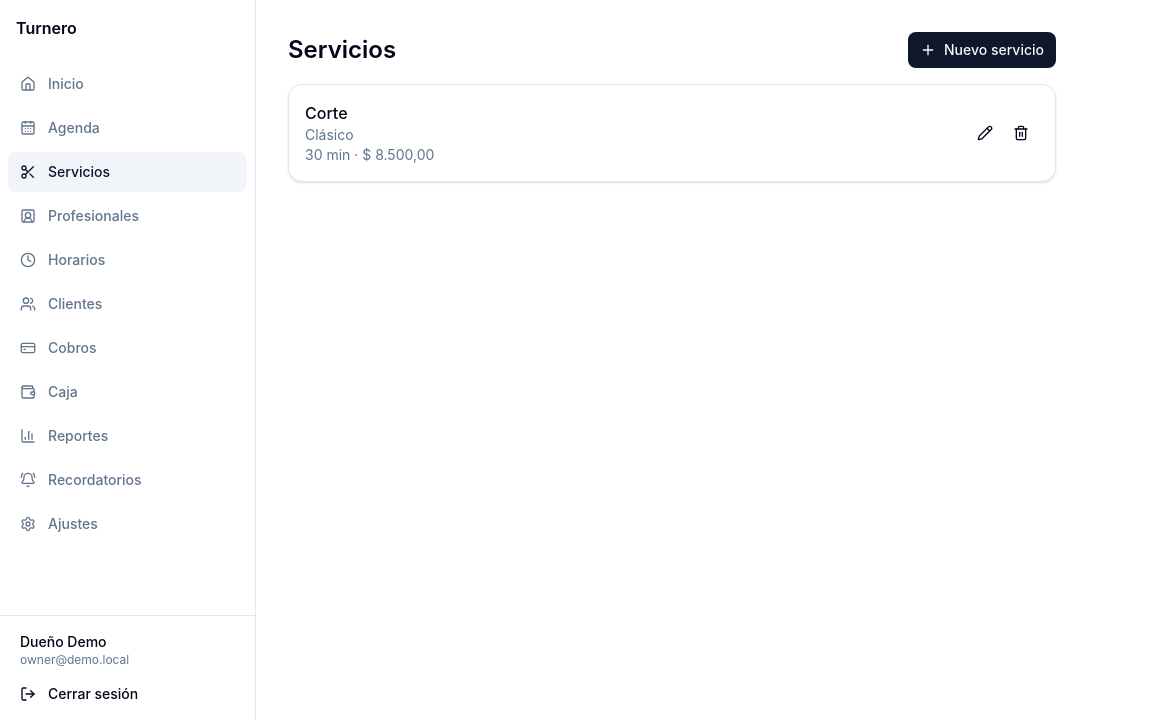
Test: services page › does not delete when the confirmation is cancelled
Click the button named "Eliminar Corte": (1021, 133) [1003,115,1039,151]
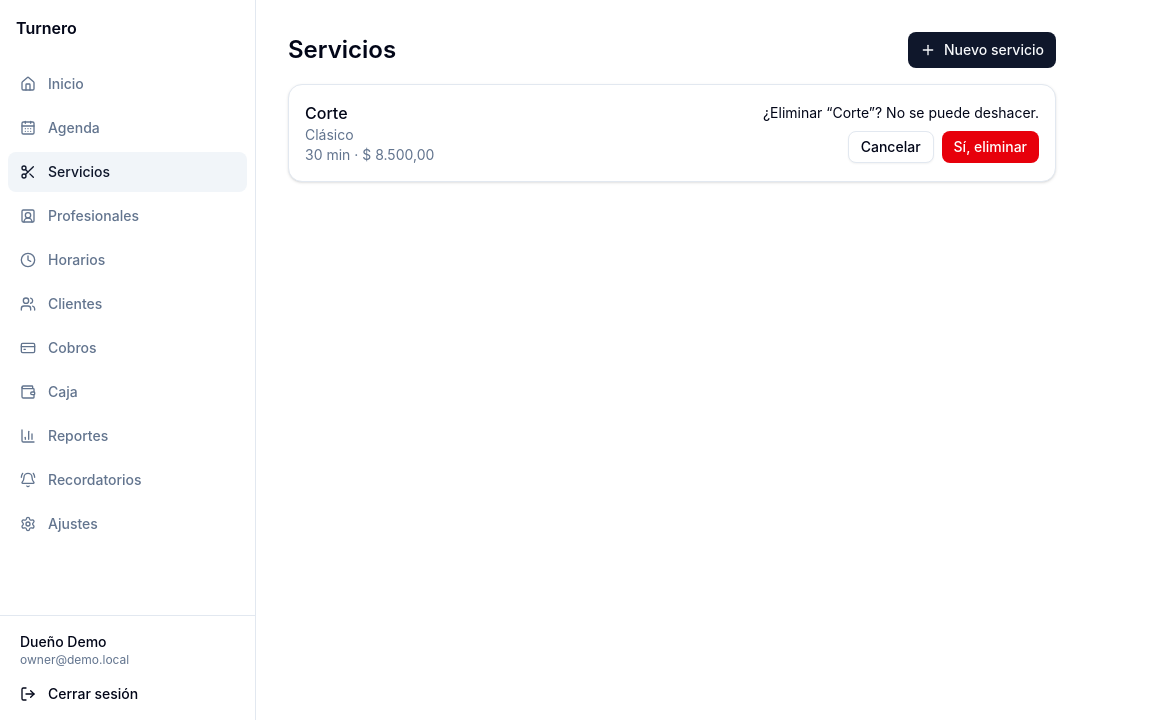
Click the button "Cancelar": (891, 147) [848,131,934,163]
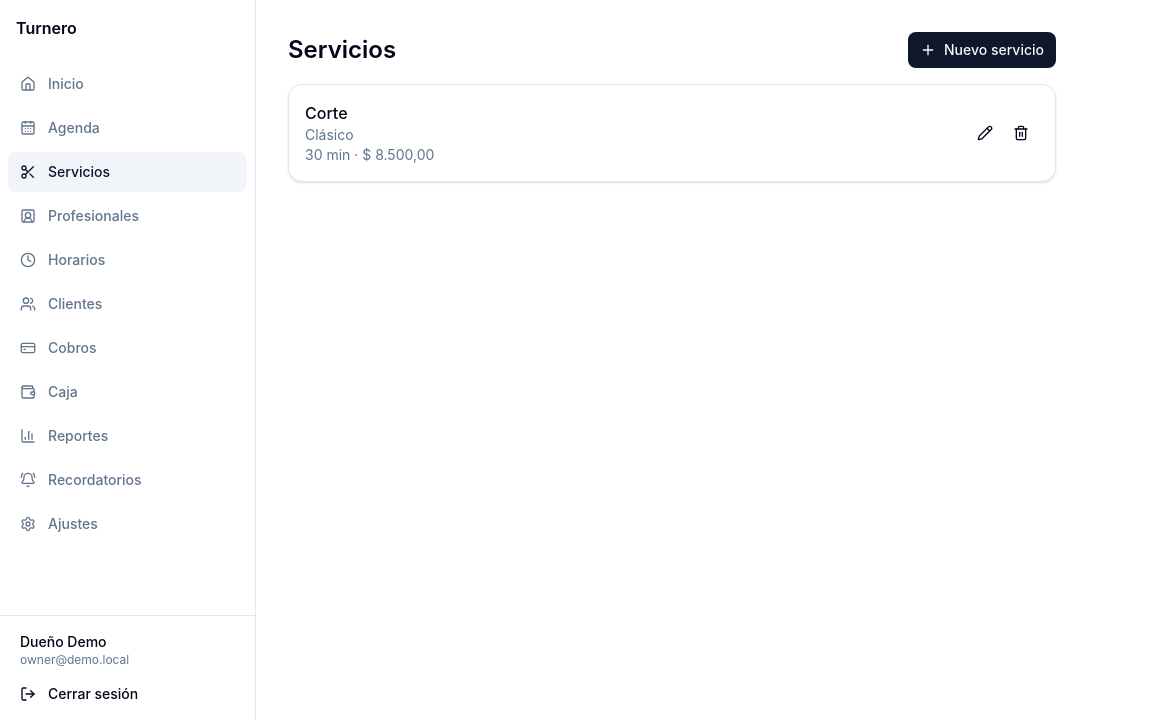
expect the button "Sí, eliminar" is gone: met
